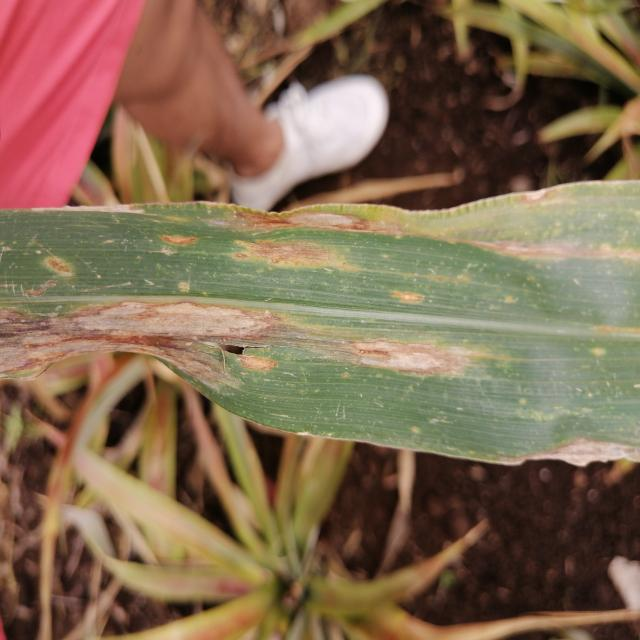Corn_Leaf_Blight: (0, 183, 640, 470)
